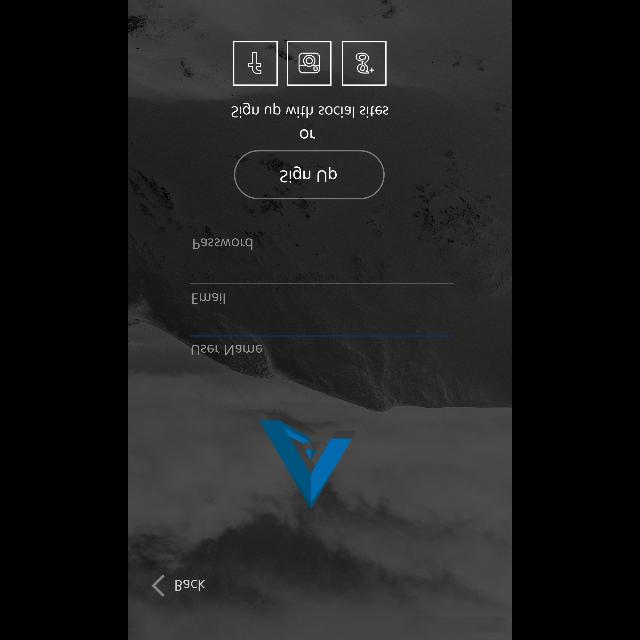backgroundimage: (128, 1, 512, 640)
icon: (234, 40, 278, 86), (342, 40, 386, 86), (152, 574, 166, 596)
image: (260, 420, 352, 510), (286, 40, 332, 86)
input: (190, 335, 454, 355), (190, 284, 454, 304), (190, 230, 454, 250)
text: (232, 102, 388, 118), (192, 344, 262, 356), (194, 238, 252, 250), (192, 293, 225, 305), (175, 579, 205, 591), (300, 129, 316, 139)
textbutton: (233, 150, 384, 200)
